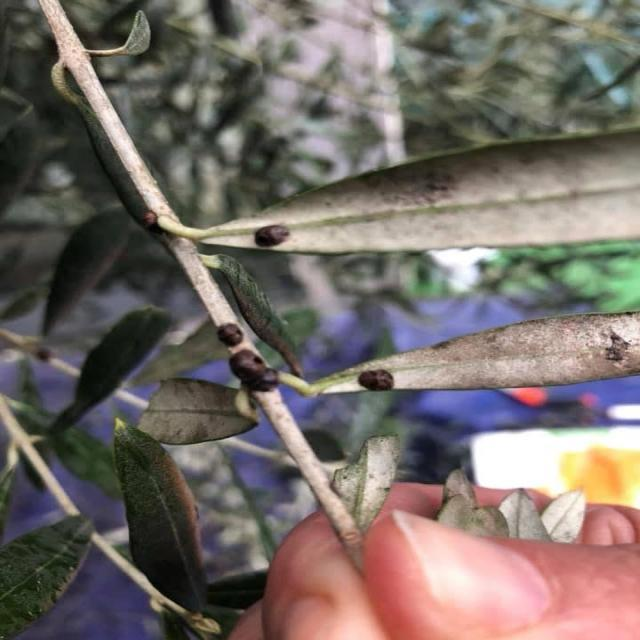BlackScale: (230, 351, 276, 392), (254, 224, 290, 247), (358, 370, 393, 390), (218, 323, 239, 348), (142, 213, 156, 230)
